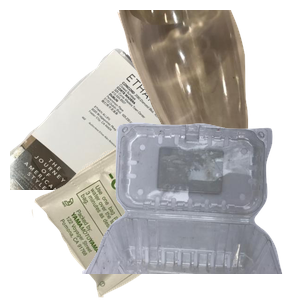glass: (115, 10, 300, 190)
paper: (10, 46, 250, 226)
plastic: (80, 120, 300, 300)
trash: (29, 124, 238, 300)
